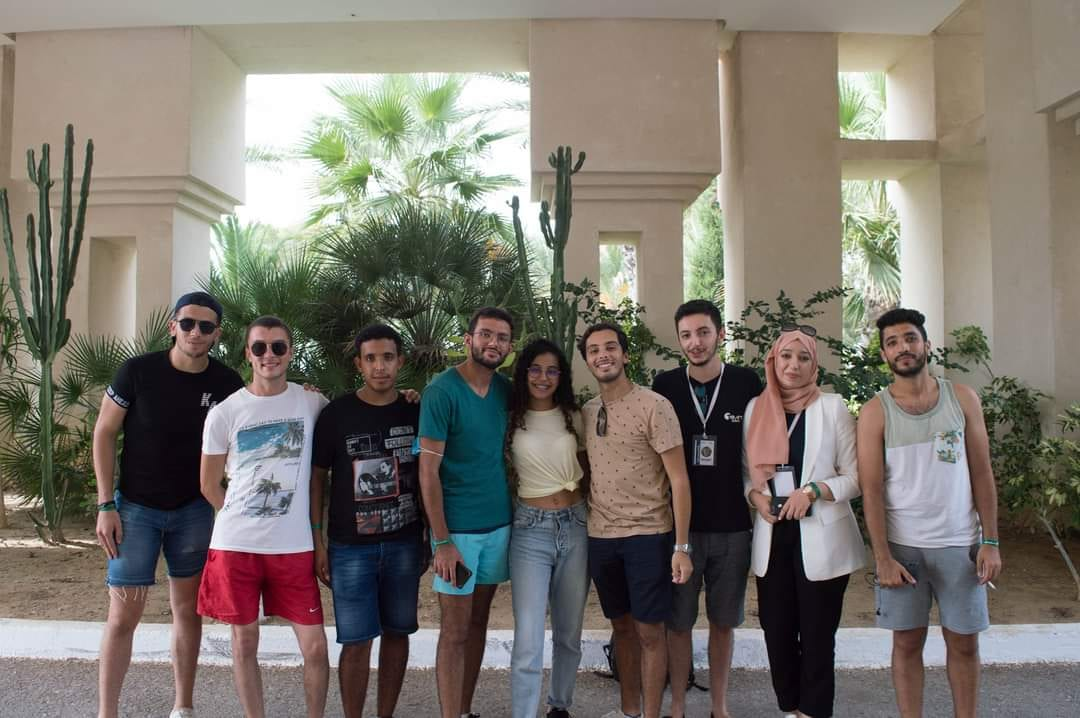without_mask: (885, 332, 927, 374), (250, 338, 292, 380), (176, 316, 216, 356), (676, 326, 717, 361), (584, 337, 623, 373), (360, 349, 397, 386), (474, 324, 509, 363), (529, 362, 562, 398), (780, 346, 812, 383)
